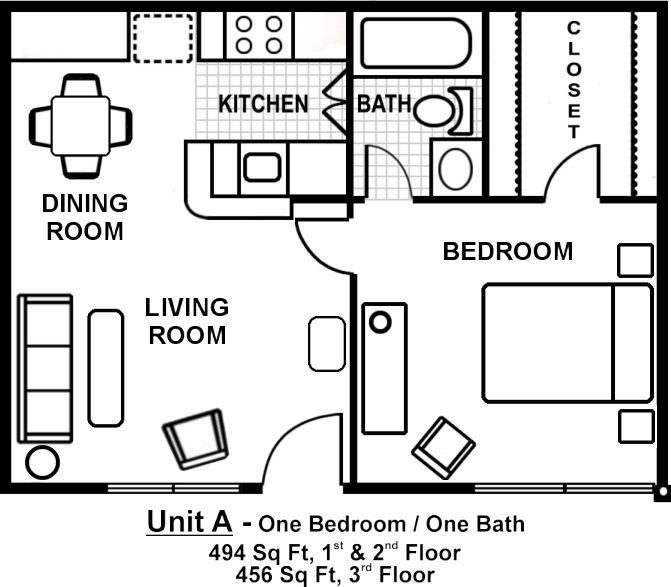door: (256, 397, 348, 492), (290, 213, 359, 278), (363, 136, 421, 200), (542, 141, 601, 200)
room: (1, 1, 357, 499), (343, 186, 671, 505), (344, 1, 671, 197)
wall: (651, 3, 671, 478), (6, 3, 667, 16), (2, 91, 15, 493), (478, 14, 496, 193), (342, 9, 356, 221), (414, 190, 546, 207), (341, 480, 477, 491), (14, 478, 110, 493), (293, 190, 368, 209), (599, 190, 660, 209)
window: (479, 472, 653, 501), (112, 477, 238, 494)
